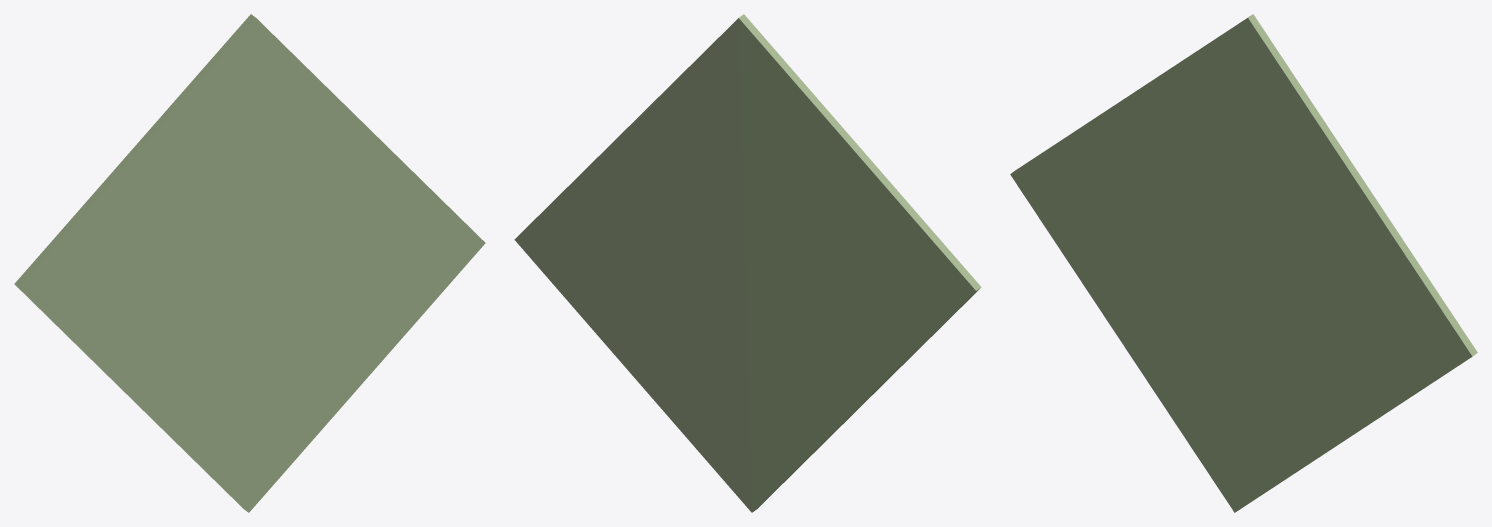
3 renders of one model, left to right at view 1: azimuth 30°, elevation 25°; view 2: azimuth 150°, elevation 25°; view 3: azimuth 330°, elevation 25°, orthographic.
Visible parts, largest first — view 1: urn:npust:smart-agriculture-management-platform:face:guestho; view 2: urn:npust:smart-agriculture-management-platform:face:guestho; view 3: urn:npust:smart-agriculture-management-platform:face:guestho.
Boxes of the visible parts, bbox=[...] form: urn:npust:smart-agriculture-management-platform:face:guestho: bbox=[14, 14, 485, 512]; urn:npust:smart-agriculture-management-platform:face:guestho: bbox=[514, 14, 981, 512]; urn:npust:smart-agriculture-management-platform:face:guestho: bbox=[1010, 14, 1477, 512].
Bounding box in the file's own units: 12.59 × 12.77 × 0.447.
